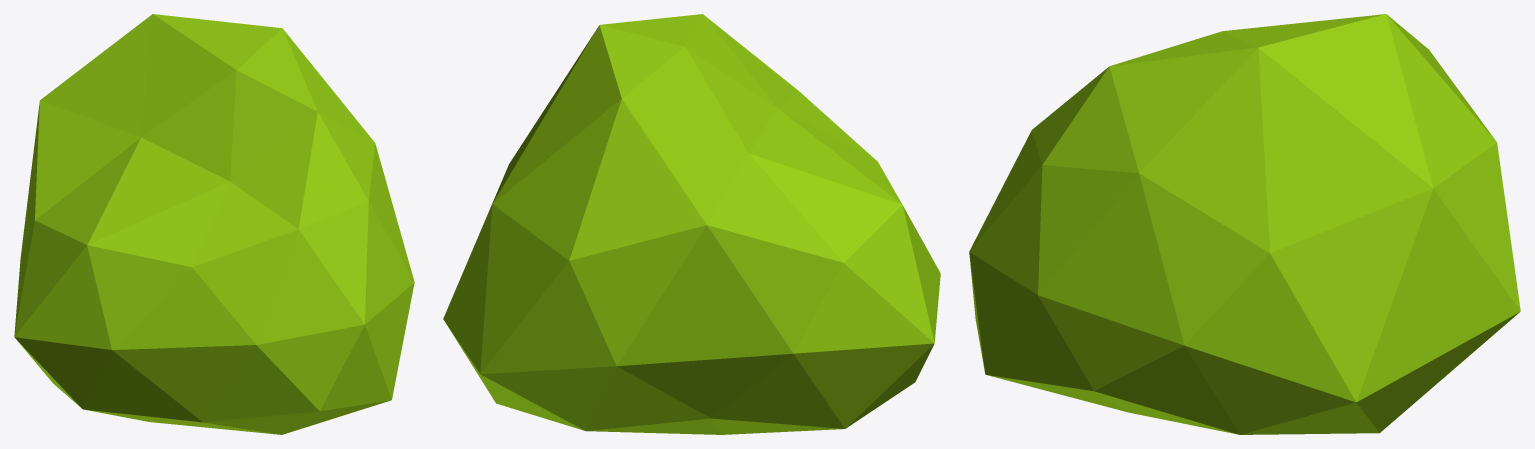
Rendered from lp_tree1_Icosphere_013.obj.
3 renders of one model, left to right at view 1: azimuth 30°, elevation 25°; view 2: azimuth 150°, elevation 25°; view 3: azimuth 270°, elevation 25°, orthographic. The views are drawn at different scales.
Parts seen in each view (by area): view 1: lp_tree1_Icosphere_013; view 2: lp_tree1_Icosphere_013; view 3: lp_tree1_Icosphere_013.
Part boxes in pixels (<box>): lp_tree1_Icosphere_013: <box>14,14,414,434</box>; lp_tree1_Icosphere_013: <box>443,14,940,434</box>; lp_tree1_Icosphere_013: <box>969,14,1520,434</box>.
Bounding box in the file's own units: 5.64 × 4.66 × 6.04.
